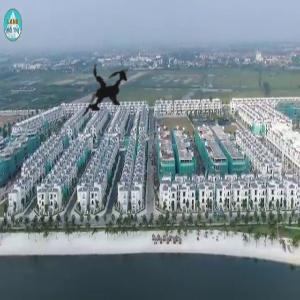drone: (53, 41, 155, 143)
